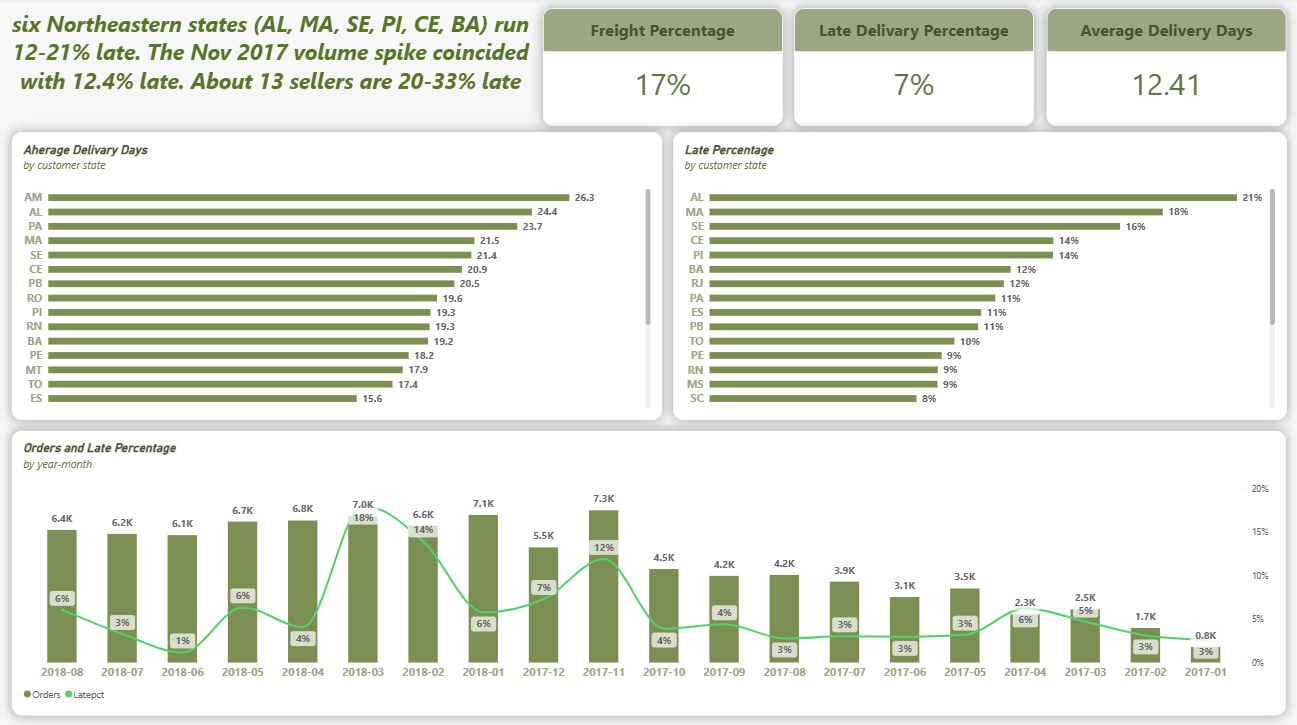

This screenshot's page, from the dashboard's own definition file:
{"tool":"powerbi","page":{"name":"Delivery Performance","canvas":[1920,1080],"ordinal":2},"visuals":[{"type":"card","title":"Late Delivary Percentage","fields":{"Values":["MeasuresT.Latepct"]},"box":[1173,16.5,352.7,173.2],"z":0},{"type":"card","title":"Average Delivery Days","fields":{"Values":["MeasuresT.AVGDelivaryDays"]},"box":[1544.3,16.5,352.7,173.2],"z":1000},{"type":"card","title":"Freight Percentage","fields":{"Values":["MeasuresT.Freightpct"]},"box":[801.7,16.5,352.7,173.2],"z":2000},{"type":"barChart","title":"Late Percentage","fields":{"Category":["dim_customer.customer_state"],"Y":["MeasuresT.Latepct"]},"box":[993.4,198.3,903.7,423.7],"z":3000},{"type":"barChart","title":"Aherage Delivary Days","fields":{"Category":["dim_customer.customer_state"],"Y":["MeasuresT.AVGDelivaryDays"]},"box":[20.9,198.3,957.9,423.7],"z":4000},{"type":"lineClusteredColumnComboChart","title":"Orders and Late Percentage","fields":{"Category":["dim_date.year_month"],"Y":["MeasuresT.Orders"],"Y2":["MeasuresT.Latepct"]},"box":[20.9,638.6,1876.2,419.5],"z":5000},{"type":"textbox","box":[21,16.5,762,173],"z":6000}]}

Visuals, with their boxes in screenshot pixels (x1, y1, x2, y2), scaled from the page's 1920x1080 canvas onto the 1297x725 screenshot:
"Late Delivary Percentage" card: <box>792,11,1031,127</box>
"Average Delivery Days" card: <box>1043,11,1281,127</box>
"Freight Percentage" card: <box>542,11,780,127</box>
"Late Percentage" barChart: <box>671,133,1282,418</box>
"Aherage Delivary Days" barChart: <box>14,133,661,418</box>
"Orders and Late Percentage" lineClusteredColumnComboChart: <box>14,429,1282,710</box>
textbox: <box>14,11,529,127</box>
